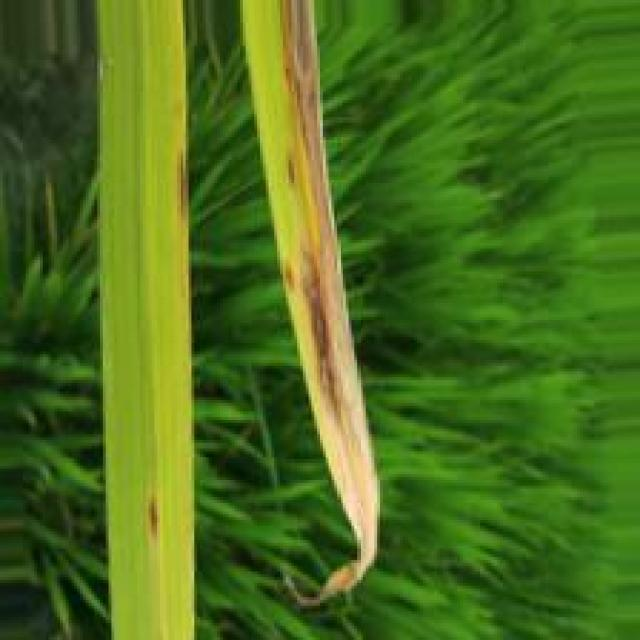Rice False Smut: (279, 1, 381, 530), (175, 155, 188, 226), (146, 496, 163, 549)
